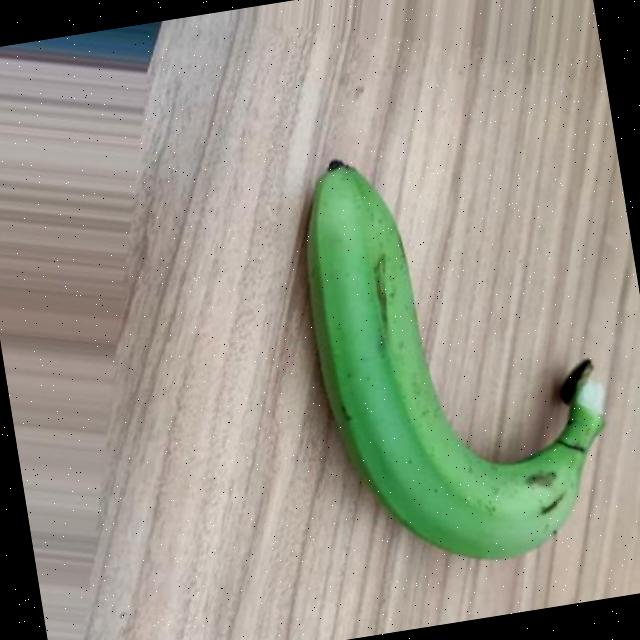Unripe: (284, 122, 630, 584)
